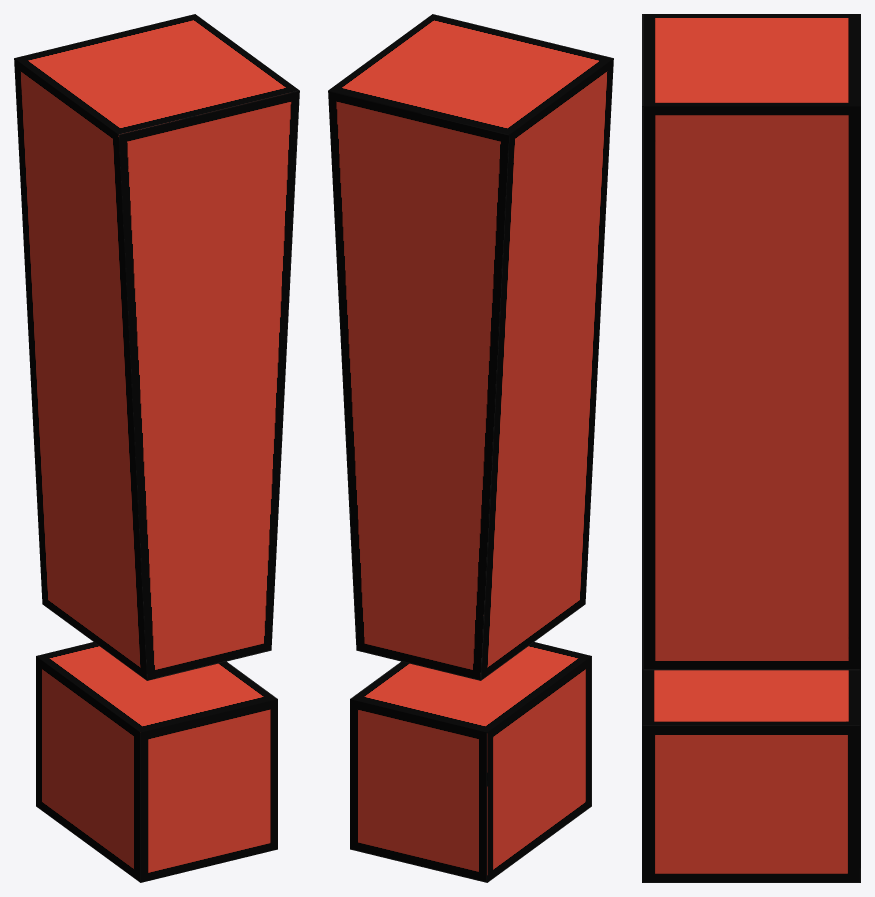
File: Bikkuri.obj
3 renders of one model, left to right at view 1: azimuth 30°, elevation 25°; view 2: azimuth 150°, elevation 25°; view 3: azimuth 270°, elevation 25°, orthographic. The views are drawn at different scales.
Parts seen in each view (by area): view 1: Cube.001; view 2: Cube.001; view 3: Cube.001.
Part boxes in pixels (left/top/right/bottom): Cube.001: left=14, top=14, right=299, bottom=882; Cube.001: left=328, top=14, right=613, bottom=882; Cube.001: left=642, top=14, right=860, bottom=882.
Bounding box in the file's own units: 3.31 × 13.16 × 3.31.
